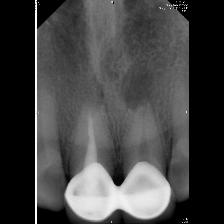apical_lesion: (115, 57, 177, 224)
